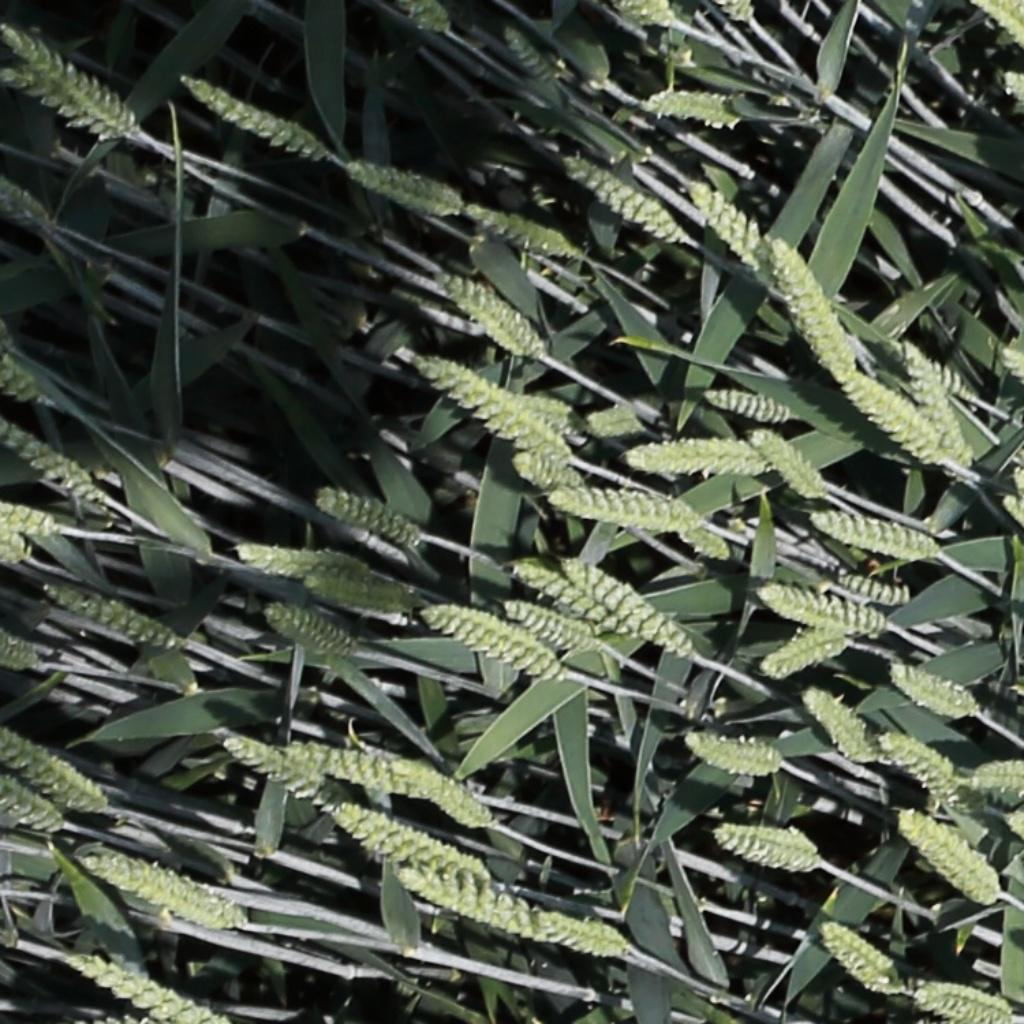0-0: (410, 351, 567, 459), (543, 486, 743, 562), (1, 25, 139, 135), (79, 856, 249, 935), (182, 71, 328, 162), (767, 230, 856, 375), (567, 555, 690, 658), (216, 729, 353, 819), (329, 805, 484, 884), (830, 361, 948, 464), (398, 872, 565, 942), (563, 151, 685, 241), (423, 606, 558, 682), (0, 65, 131, 143), (434, 268, 543, 356), (898, 812, 1000, 906), (65, 951, 203, 1019), (685, 176, 774, 275), (40, 582, 174, 647), (0, 729, 103, 811), (0, 420, 102, 501), (345, 161, 466, 222), (903, 359, 969, 468), (817, 922, 903, 1002), (311, 488, 417, 552), (756, 580, 884, 633), (513, 561, 611, 628), (681, 723, 791, 781), (395, 763, 490, 830), (278, 749, 413, 794), (714, 820, 832, 871), (464, 202, 574, 255), (801, 686, 875, 764), (809, 512, 937, 557), (259, 604, 361, 659), (749, 427, 826, 499), (303, 577, 414, 623), (537, 916, 638, 966), (507, 387, 591, 447), (882, 745, 959, 809), (496, 19, 561, 94), (892, 341, 973, 397), (888, 664, 974, 716), (910, 983, 1017, 1024), (503, 600, 592, 648), (236, 544, 358, 578), (876, 735, 958, 785), (643, 89, 742, 130), (760, 630, 843, 677), (1, 775, 60, 832), (700, 389, 791, 419), (0, 176, 54, 225), (509, 454, 582, 490), (981, 1, 1024, 58), (999, 344, 1024, 435), (0, 503, 55, 535), (999, 491, 1024, 557), (401, 1, 447, 31), (0, 518, 30, 563), (1004, 816, 1024, 879), (619, 1, 673, 24), (1002, 70, 1024, 125), (719, 0, 755, 27)
